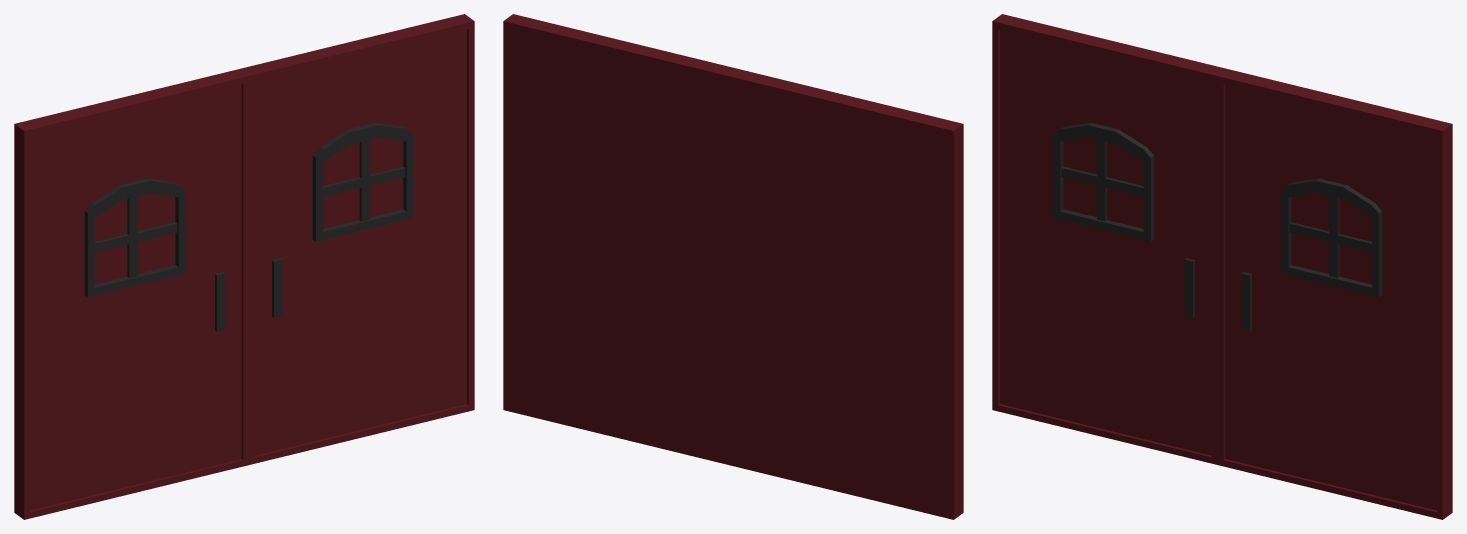
File: Red Entrance Door.fbx
3 renders of one model, left to right at view 1: azimuth 30°, elevation 25°; view 2: azimuth 150°, elevation 25°; view 3: azimuth 330°, elevation 25°, orthographic.
Visible parts, largest first — view 1: Plane; view 2: Plane; view 3: Plane.
Boxes of the visible parts, x1,y1,x2,y2 form: Plane: [14, 14, 474, 519]; Plane: [503, 14, 963, 519]; Plane: [992, 14, 1452, 519].
Size of the model in its own units: 1352 by 1115 by 58.89.
